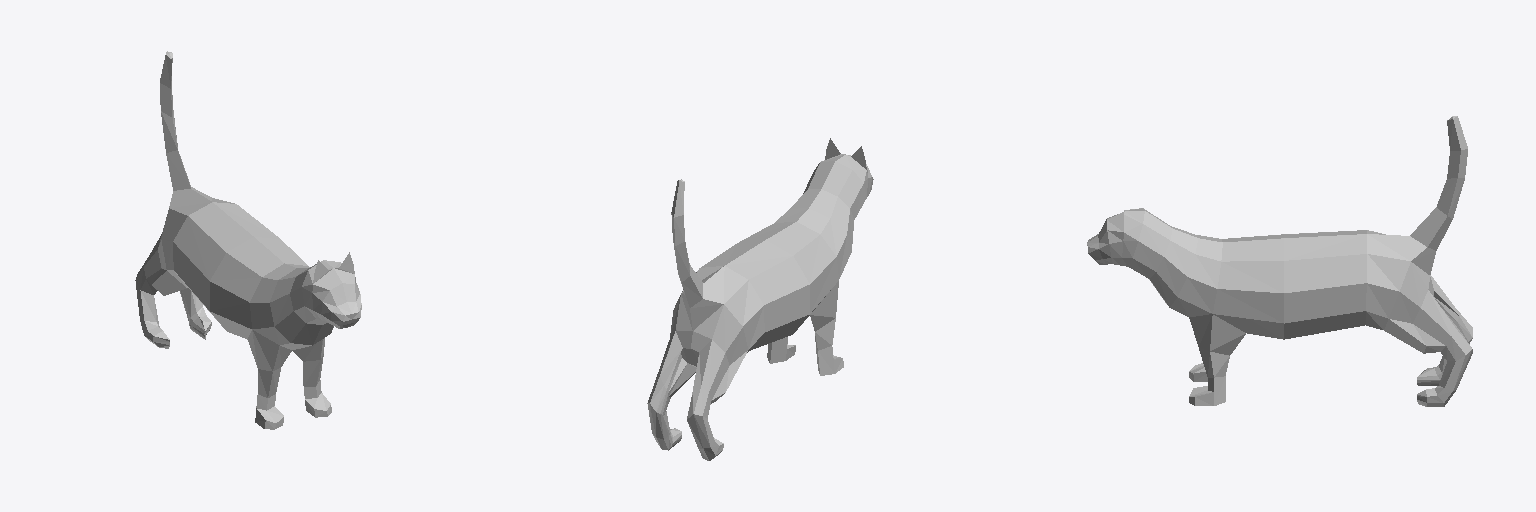
Rendered from cat.obj.
3 views of the same model, side by side, from view 1: azimuth 30°, elevation 25°; view 2: azimuth 150°, elevation 25°; view 3: azimuth 270°, elevation 25° (orthographic).
Parts seen in each view (by area): view 1: Cylinder; view 2: Cylinder; view 3: Cylinder.
Boxes of the visible parts, <box> form: Cylinder: <box>135,51,361,429</box>; Cylinder: <box>647,138,873,460</box>; Cylinder: <box>1087,116,1472,406</box>.
Bounding box in the file's own units: 2.13 × 6.43 × 8.04.